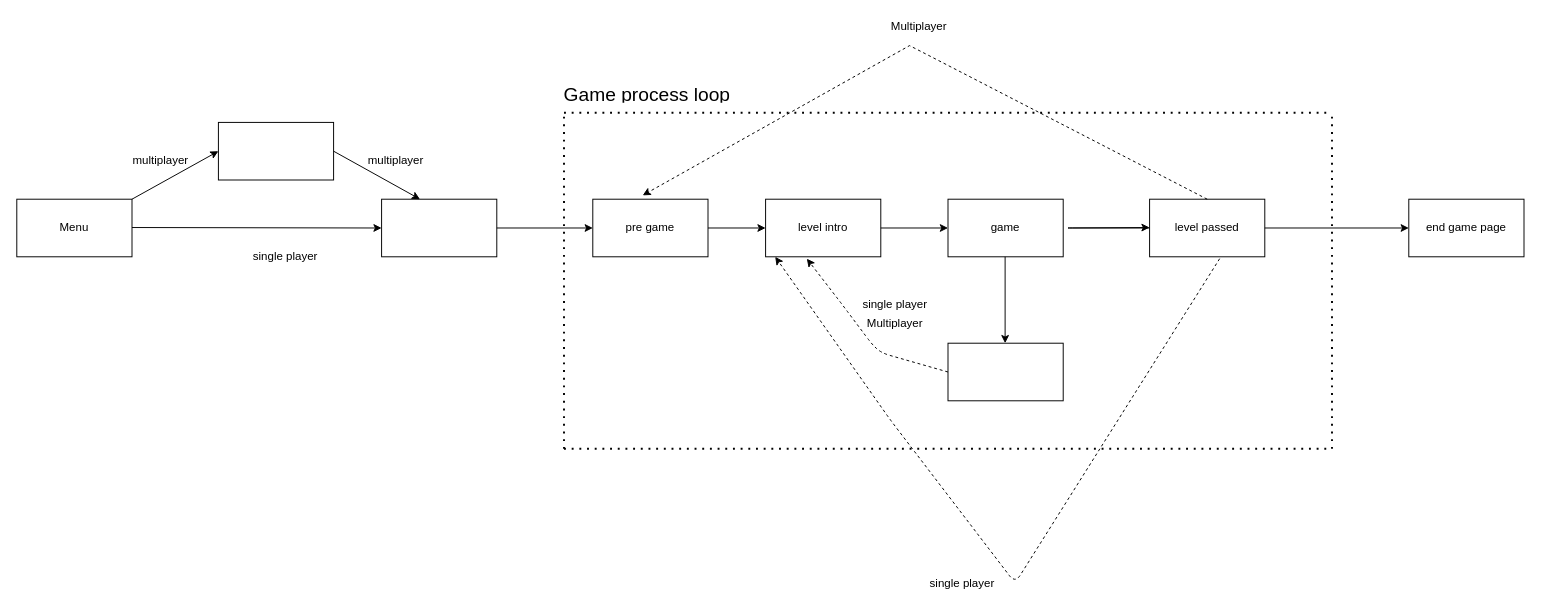
Image size: 1541x609. Some labels were removed from this diagram. The shapes that lost their labels are listed below. From the top down, each one's centre as x and y in pixels, then its label:
point 275,150: Multiplayer page (join, create host)
point 439,227: Game configuration (create host)
point 1005,371: level failed
